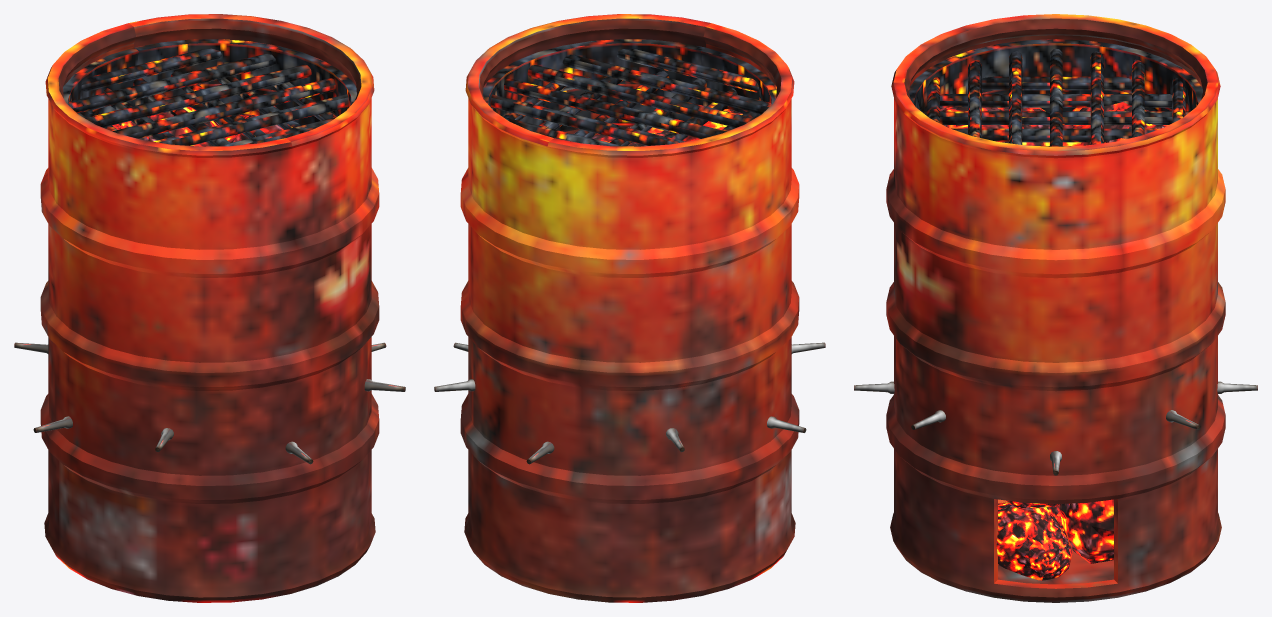
The model's file is Fire Barrel With Textures.fbx.
The picture shows the model from 3 angles, left to right: view 1: azimuth 30°, elevation 25°; view 2: azimuth 150°, elevation 25°; view 3: azimuth 270°, elevation 25°; orthographic projection.
Visible parts, largest first — view 1: Fire Barrel, Fire Barrel Grill Top, Fire Barrel Inner Ring, Fire Barrel Grill Top.001, Fire Barrel Spikes Maybe Delete, Fire Barrel Hot Coals; view 2: Fire Barrel, Fire Barrel Grill Top, Fire Barrel Inner Ring, Fire Barrel Grill Top.001, Fire Barrel Spikes Maybe Delete, Fire Barrel Hot Coals; view 3: Fire Barrel, Fire Barrel Hot Coals, Fire Barrel Inner Ring, Fire Barrel Grill Top.001, Fire Barrel Grill Top, Fire Barrel Spikes Maybe Delete.
Part boxes in pixels (bbox=[...]): Fire Barrel: bbox=[40, 14, 379, 602]; Fire Barrel Grill Top: bbox=[68, 48, 349, 146]; Fire Barrel Inner Ring: bbox=[63, 39, 356, 125]; Fire Barrel Grill Top.001: bbox=[78, 71, 336, 146]; Fire Barrel Spikes Maybe Delete: bbox=[14, 342, 405, 464]; Fire Barrel Hot Coals: bbox=[112, 106, 283, 146]; Fire Barrel: bbox=[460, 14, 799, 602]; Fire Barrel Grill Top: bbox=[490, 49, 771, 146]; Fire Barrel Inner Ring: bbox=[483, 39, 776, 131]; Fire Barrel Grill Top.001: bbox=[503, 71, 761, 146]; Fire Barrel Spikes Maybe Delete: bbox=[434, 342, 825, 464]; Fire Barrel Hot Coals: bbox=[573, 109, 742, 146]; Fire Barrel: bbox=[886, 14, 1225, 602]; Fire Barrel Hot Coals: bbox=[942, 102, 1168, 580]; Fire Barrel Inner Ring: bbox=[909, 39, 1202, 111]; Fire Barrel Grill Top.001: bbox=[921, 76, 1190, 146]; Fire Barrel Grill Top: bbox=[927, 49, 1185, 146]; Fire Barrel Spikes Maybe Delete: bbox=[854, 381, 1257, 475].
Size of the model in its own units: 96.57 by 119 by 96.57.
Materials: 1 (1 with a texture image).
